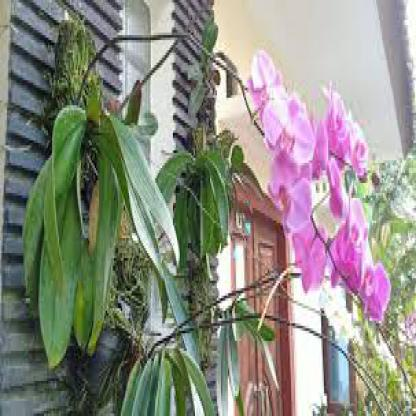ANGGREK: (189, 23, 396, 342)
